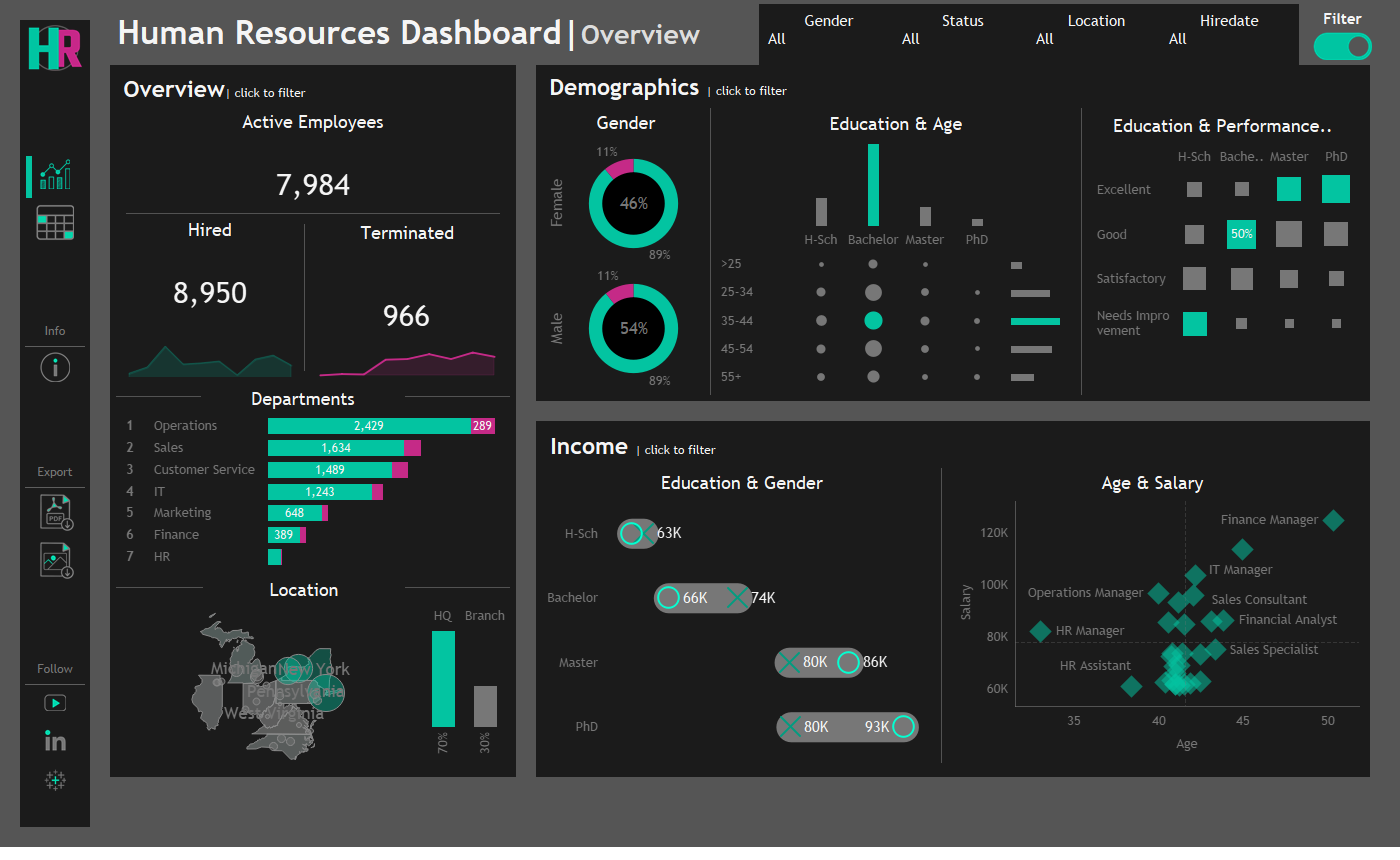

This screenshot's page, from the dashboard's own definition file:
{"tool":"tableau","page":{"name":"HR | Summary","canvas":[1000,1000],"units":"permille","ordinal":1},"visuals":[{"type":"blank","box":[64.3,0,935,289.5]},{"type":"text","box":[78.6,0,587.1,75.6]},{"type":"blank","box":[665.7,0,312.9,75.6]},{"type":"text","box":[932.9,3.7,52.1,37]},{"type":"filter","title":"Gender vs Education level","param":"[federated.149nvim0acwrk3132oys81wynhyj].[none:Gender:nk]","box":[544.3,8.1,95.7,65.1]},{"type":"filter","title":"Gender vs Education level","param":"[federated.149nvim0acwrk3132oys81wynhyj].[none:Calculation_1283525915708465152:n","box":[640,8.1,95.7,65.1]},{"type":"filter","title":"Gender vs Education level","param":"[federated.149nvim0acwrk3132oys81wynhyj].[none:Calculation_2022960677427458054:n","box":[735.7,8.1,95,65.1]},{"type":"filter","title":"Gender vs Education level","param":"[federated.149nvim0acwrk3132oys81wynhyj].[yr:Hiredate:ok]","box":[830.7,8.1,95,65.1]},{"type":"dashboard-object","box":[937.9,19.7,42.1,69]},{"type":"image","param":"Image/Logo.png","box":[14.3,23.3,50,64]},{"type":"text","box":[82.9,82.6,281.4,40.7]},{"type":"text","box":[387.2,82.6,587.1,37.2]},{"type":"blank","box":[14.3,87.2,50,93]},{"type":"text","box":[82.9,123.3,281.4,40.7]},{"type":"text","box":[387.2,125.6,120,33.7]},{"type":"blank","box":[507.2,125.6,0.7,333.7]},{"type":"text","box":[507.9,125.6,264.3,37.2]},{"type":"blank","box":[772.1,125.6,0.7,333.7]},{"type":"text","box":[772.9,125.6,201.4,40.7]},{"type":"worksheet","title":"Gender","mark":"Pie","rows":["Gender"],"cols":["Calculation_2022960677437743112","Calculation_2022960677437743112"],"box":[387.2,159.3,120,300]},{"type":"worksheet","title":"Education Levels","mark":"Bar","rows":["Calculation_2022960677416058880"],"cols":["Education Level"],"box":[507.9,162.8,264.3,100]},{"type":"worksheet","title":"Ban Active","mark":"Text","box":[82.9,164,281.4,83.7]},{"type":"worksheet","title":"Education vs Performance","mark":"Square","rows":["Performance Rating"],"cols":["Education Level"],"box":[772.9,166.3,201.4,240.7]},{"type":"dashboard-object","box":[14.3,180.2,50,44.2]},{"type":"blank","box":[18.6,181,4.3,49.3]},{"type":"blank","box":[14.3,224.4,50,11.6]},{"type":"dashboard-object","box":[14.3,236,50,44.2]},{"type":"blank","box":[82.9,247.7,281.4,1.2]},{"type":"text","box":[82.9,248.8,134.3,37.2]},{"type":"blank","box":[217.2,248.8,0.7,194.2]},{"type":"text","box":[217.9,248.8,146.3,44.2]},{"type":"worksheet","title":"Age vs Education","mark":"Circle","rows":["Calculation_2022960677451186186"],"cols":["Education Level"],"box":[507.9,262.8,211.4,196.5]},{"type":"worksheet","title":"Age groups","mark":"Bar","rows":["Calculation_2022960677451186186"],"cols":["Calculation_2022960677416058880"],"box":[719.3,262.8,42.1,196.5]},{"type":"blank","box":[14.3,280.2,50,93]},{"type":"worksheet","title":"Ban Hired","mark":"Text","box":[82.9,286.1,134.3,109.3]},{"type":"text","box":[64.3,289.5,935,313.9]},{"type":"worksheet","title":"Ban Terminated","mark":"Text","box":[217.9,293,146.3,109.3]},{"type":"text","box":[14.3,373.2,50,23.2]},{"type":"worksheet","title":"Hired By Years","mark":"Line","rows":["Calculation_2022960677416058880","Calculation_2022960677416058880"],"cols":["Hiredate"],"box":[82.9,395.4,134.3,47.7]},{"type":"blank","box":[14.3,396.5,50,12.8]},{"type":"worksheet","title":"Terminated By Years ","mark":"Line","rows":["Calculation_2022960677416153089","Calculation_2022960677416153089"],"cols":["Termdate"],"box":[217.9,402.3,146.3,40.7]},{"type":"dashboard-object","box":[14.3,409.3,50,34.9]},{"type":"blank","box":[82.9,443,60.7,34.9]},{"type":"text","box":[143.6,443,145.7,34.9]},{"type":"blank","box":[289.3,443,75,34.9]},{"type":"blank","box":[14.3,444.2,50,93]},{"type":"worksheet","title":"Departments","mark":"Bar","rows":["Calculation_2022960677424799748","Department"],"cols":["Calculation_2022960677416058880"],"box":[82.9,477.9,281.4,187.2]},{"type":"text","box":[387.9,497.7,585.7,40.7]},{"type":"text","box":[14.3,537.2,50,23.2]},{"type":"text","box":[387.9,544.2,284.3,33.7]},{"type":"blank","box":[672.1,544.2,0.7,343]},{"type":"text","box":[672.9,544.2,300.7,33.7]},{"type":"blank","box":[14.3,560.4,50,12.8]},{"type":"dashboard-object","box":[14.3,573.2,50,44.2]},{"type":"worksheet","title":"Gender vs Education level","mark":"Line","rows":["Education Level"],"cols":["Salary","Salary"],"box":[387.9,577.9,284.3,309.3]},{"type":"worksheet","title":"Age vs Salary","mark":"Shape","rows":["Salary"],"cols":["Calculation_2022960677449867273"],"box":[672.9,577.9,300.7,309.3]},{"type":"blank","box":[64.3,603.5,935,381.7]},{"type":"blank","box":[14.3,617.4,50,11.6]},{"type":"dashboard-object","box":[14.3,629.1,50,44.2]},{"type":"blank","box":[82.9,665.1,62.1,34.9]},{"type":"text","box":[145,665.1,144.3,34.9]},{"type":"blank","box":[289.3,665.1,75,34.9]},{"type":"blank","box":[14.3,673.2,50,93]},{"type":"worksheet","title":"Map States","mark":"Automatic","box":[82.9,700,215.7,196.5]},{"type":"worksheet","title":"Location","mark":"Bar","rows":["Calculation_2022960677416058880"],"cols":["Calculation_2022960677427458054","Calculation1"],"box":[298.6,700,65.7,196.5]},{"type":"text","box":[14.3,766.3,50,23.2]},{"type":"blank","box":[14.3,789.5,50,12.8]},{"type":"image","param":"Image/contact-channel.png","box":[14.3,802.3,50,29.1]},{"type":"blank","box":[14.3,831.4,50,11.6]},{"type":"image","param":"Image/contact-linkedin.png","box":[14.3,843,50,34.9]},{"type":"blank","box":[14.3,877.9,50,11.6]},{"type":"image","param":"Image/contact-public.png","box":[14.3,889.5,50,34.9]}]}

Visuals, with their boxes on the dashboard's canvas, which has no fixed pixel size, in thousandths of its width and height (x1, y1, x2, y2). These are canvas units, not pixel positions in the 1400x860 screenshot, which may show the page scaled, cropped or inside an application window:
blank: x1=64 y1=0 x2=999 y2=290
text: x1=79 y1=0 x2=666 y2=76
blank: x1=666 y1=0 x2=979 y2=76
text: x1=933 y1=4 x2=985 y2=41
"Gender vs Education level" filter: x1=544 y1=8 x2=640 y2=73
"Gender vs Education level" filter: x1=640 y1=8 x2=736 y2=73
"Gender vs Education level" filter: x1=736 y1=8 x2=831 y2=73
"Gender vs Education level" filter: x1=831 y1=8 x2=926 y2=73
dashboard-object: x1=938 y1=20 x2=980 y2=89
image: x1=14 y1=23 x2=64 y2=87
text: x1=83 y1=83 x2=364 y2=123
text: x1=387 y1=83 x2=974 y2=120
blank: x1=14 y1=87 x2=64 y2=180
text: x1=83 y1=123 x2=364 y2=164
text: x1=387 y1=126 x2=507 y2=159
blank: x1=507 y1=126 x2=508 y2=459
text: x1=508 y1=126 x2=772 y2=163
blank: x1=772 y1=126 x2=773 y2=459
text: x1=773 y1=126 x2=974 y2=166
"Gender" worksheet (Pie marks): x1=387 y1=159 x2=507 y2=459
"Education Levels" worksheet (Bar marks): x1=508 y1=163 x2=772 y2=263
"Ban Active" worksheet (Text marks): x1=83 y1=164 x2=364 y2=248
"Education vs Performance" worksheet (Square marks): x1=773 y1=166 x2=974 y2=407
dashboard-object: x1=14 y1=180 x2=64 y2=224
blank: x1=19 y1=181 x2=23 y2=230
blank: x1=14 y1=224 x2=64 y2=236
dashboard-object: x1=14 y1=236 x2=64 y2=280
blank: x1=83 y1=248 x2=364 y2=249
text: x1=83 y1=249 x2=217 y2=286
blank: x1=217 y1=249 x2=218 y2=443
text: x1=218 y1=249 x2=364 y2=293
"Age vs Education" worksheet (Circle marks): x1=508 y1=263 x2=719 y2=459
"Age groups" worksheet (Bar marks): x1=719 y1=263 x2=761 y2=459
blank: x1=14 y1=280 x2=64 y2=373
"Ban Hired" worksheet (Text marks): x1=83 y1=286 x2=217 y2=395
text: x1=64 y1=290 x2=999 y2=603
"Ban Terminated" worksheet (Text marks): x1=218 y1=293 x2=364 y2=402
text: x1=14 y1=373 x2=64 y2=396
"Hired By Years" worksheet (Line marks): x1=83 y1=395 x2=217 y2=443
blank: x1=14 y1=396 x2=64 y2=409
"Terminated By Years " worksheet (Line marks): x1=218 y1=402 x2=364 y2=443
dashboard-object: x1=14 y1=409 x2=64 y2=444
blank: x1=83 y1=443 x2=144 y2=478
text: x1=144 y1=443 x2=289 y2=478
blank: x1=289 y1=443 x2=364 y2=478
blank: x1=14 y1=444 x2=64 y2=537
"Departments" worksheet (Bar marks): x1=83 y1=478 x2=364 y2=665
text: x1=388 y1=498 x2=974 y2=538
text: x1=14 y1=537 x2=64 y2=560
text: x1=388 y1=544 x2=672 y2=578
blank: x1=672 y1=544 x2=673 y2=887
text: x1=673 y1=544 x2=974 y2=578
blank: x1=14 y1=560 x2=64 y2=573
dashboard-object: x1=14 y1=573 x2=64 y2=617
"Gender vs Education level" worksheet (Line marks): x1=388 y1=578 x2=672 y2=887
"Age vs Salary" worksheet (Shape marks): x1=673 y1=578 x2=974 y2=887
blank: x1=64 y1=604 x2=999 y2=985
blank: x1=14 y1=617 x2=64 y2=629
dashboard-object: x1=14 y1=629 x2=64 y2=673
blank: x1=83 y1=665 x2=145 y2=700
text: x1=145 y1=665 x2=289 y2=700
blank: x1=289 y1=665 x2=364 y2=700
blank: x1=14 y1=673 x2=64 y2=766
"Map States" worksheet: x1=83 y1=700 x2=299 y2=896
"Location" worksheet (Bar marks): x1=299 y1=700 x2=364 y2=896
text: x1=14 y1=766 x2=64 y2=790
blank: x1=14 y1=790 x2=64 y2=802
image: x1=14 y1=802 x2=64 y2=831
blank: x1=14 y1=831 x2=64 y2=843
image: x1=14 y1=843 x2=64 y2=878
blank: x1=14 y1=878 x2=64 y2=890
image: x1=14 y1=890 x2=64 y2=924
